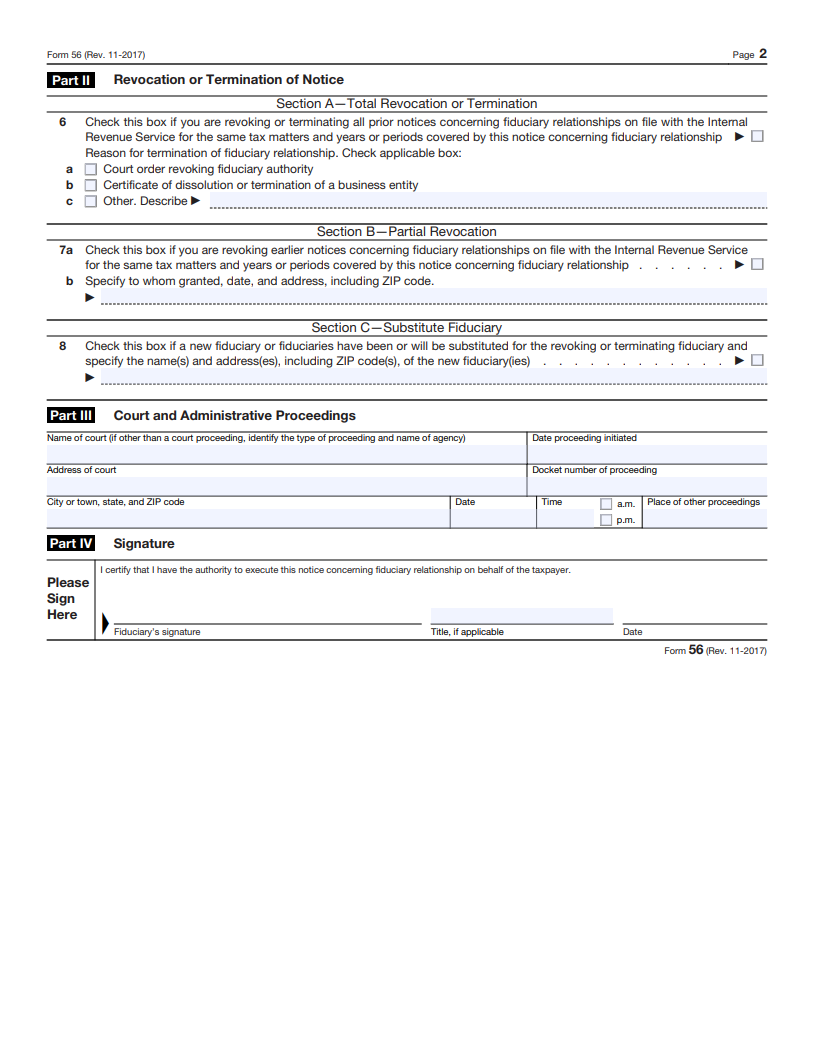checkbox: (749, 127, 766, 146), (82, 158, 99, 177), (81, 174, 98, 193), (81, 191, 98, 210), (597, 494, 614, 513), (597, 509, 614, 528), (749, 256, 766, 275), (749, 349, 766, 368)
textbox: (42, 428, 532, 468), (42, 458, 532, 498), (42, 491, 453, 533), (522, 427, 774, 467), (521, 458, 773, 498), (637, 491, 772, 531), (444, 493, 540, 531), (531, 492, 595, 531)
textline: (206, 190, 776, 212), (97, 289, 763, 306), (97, 368, 763, 385), (113, 610, 426, 628), (427, 610, 618, 628), (619, 609, 771, 629)
